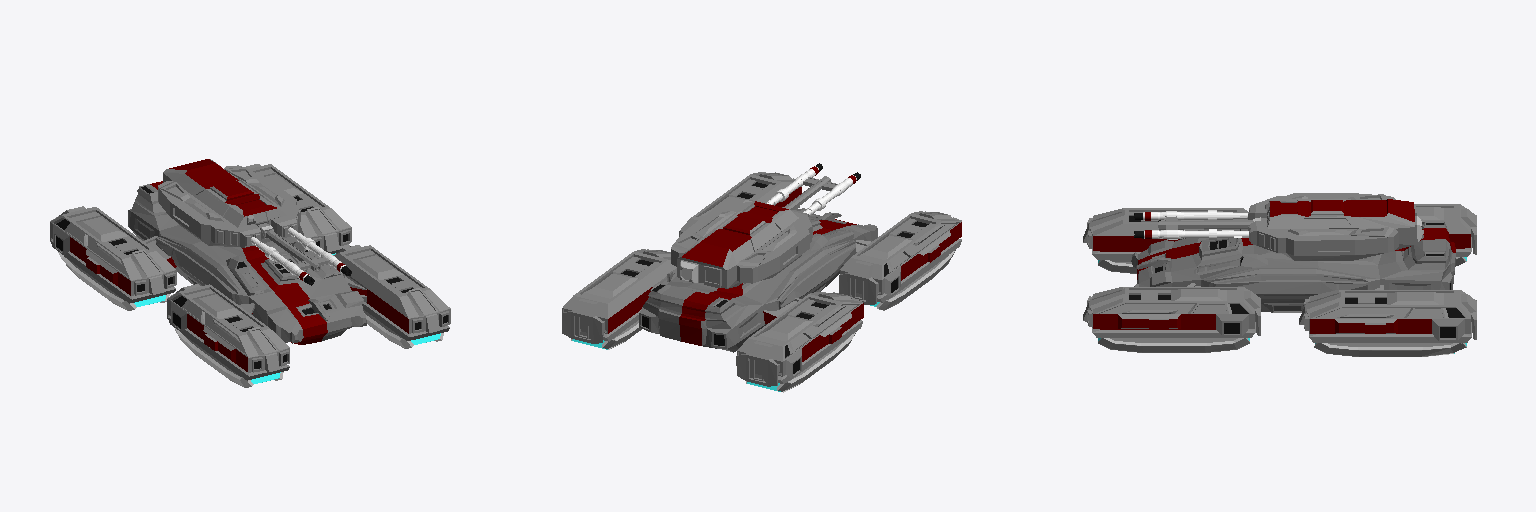
The model's file is Tank.obj.
3 views of the same model, side by side, from view 1: azimuth 30°, elevation 25°; view 2: azimuth 150°, elevation 25°; view 3: azimuth 270°, elevation 25° (orthographic).
Visible parts, largest first — view 1: group11:polySurface7, tank_base:group11, group11:polySurface14, guns; view 2: group11:polySurface7, tank_base:group11, group11:polySurface14, guns; view 3: group11:polySurface7, tank_base:group11, group11:polySurface14, guns.
Boxes of the visible parts, x1,y1,x2,y2 form: group11:polySurface7: [50, 164, 450, 387]; tank_base:group11: [128, 181, 366, 344]; group11:polySurface14: [158, 159, 328, 265]; guns: [251, 227, 351, 285]; group11:polySurface7: [562, 172, 961, 392]; tank_base:group11: [639, 207, 877, 352]; group11:polySurface14: [671, 201, 812, 288]; guns: [767, 163, 860, 215]; group11:polySurface7: [1083, 204, 1476, 356]; tank_base:group11: [1131, 221, 1455, 312]; group11:polySurface14: [1248, 193, 1423, 260]; guns: [1134, 210, 1253, 239].
Bounding box in the file's own units: 26.01 × 10.7 × 38.02.